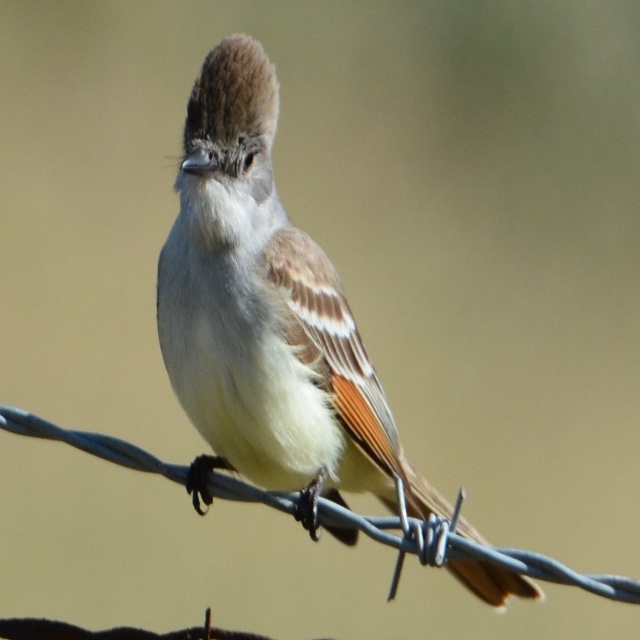Sparrow: (155, 32, 545, 610)
